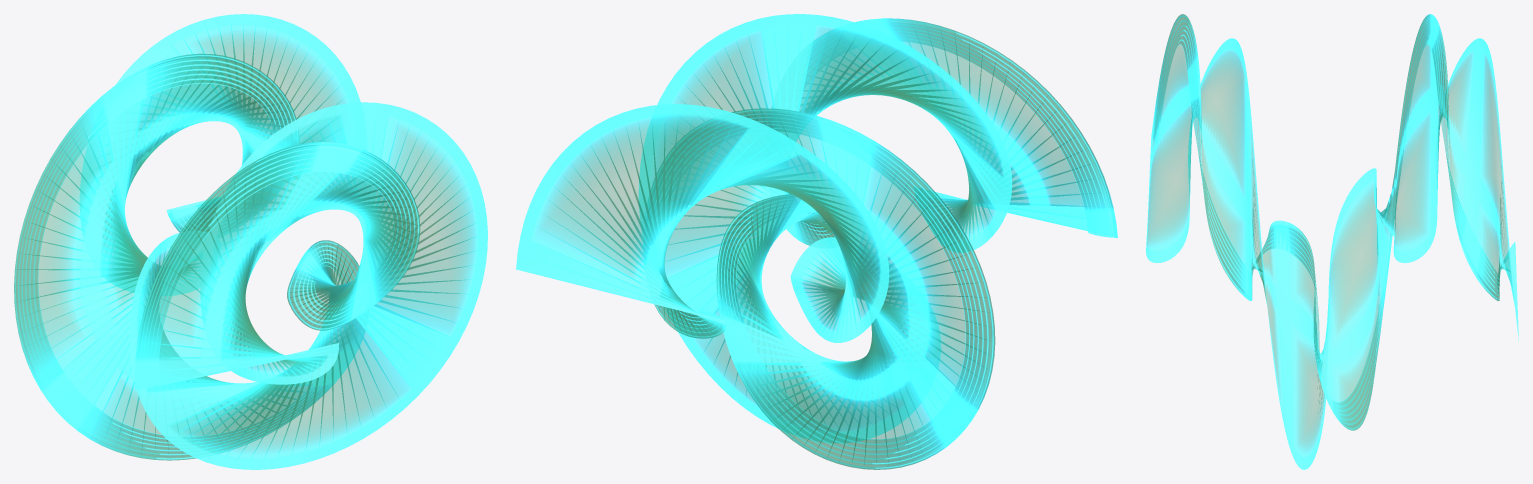
File: platform.glb
3 views of the same model, side by side, from view 1: azimuth 30°, elevation 25°; view 2: azimuth 150°, elevation 25°; view 3: azimuth 270°, elevation 25° (orthographic). The views are drawn at different scales.
Visible parts, largest first — view 1: MathShape_0; view 2: MathShape_0; view 3: MathShape_0.
Part boxes in pixels (<box>): MathShape_0: <box>14,14,487,469</box>; MathShape_0: <box>516,14,1117,469</box>; MathShape_0: <box>1146,14,1518,469</box>.
Bounding box in the file's own units: 3.94 × 3.52 × 3.01.
1 material, 1 textured.
